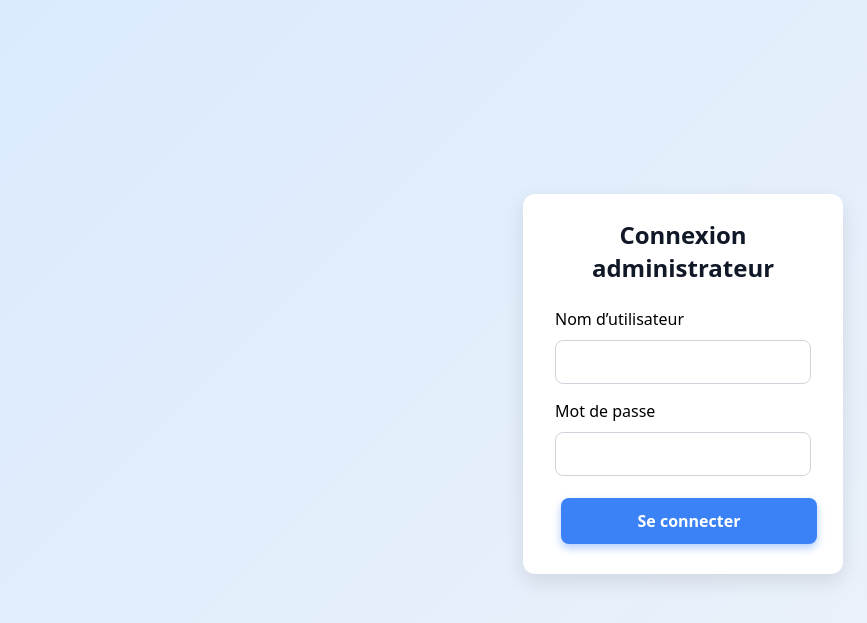
Test: login displays a safe API authentication error
In the field labelled "Nom d’utilisateur": (683, 362) x1=555 y1=340 x2=811 y2=384, type "test-admin"
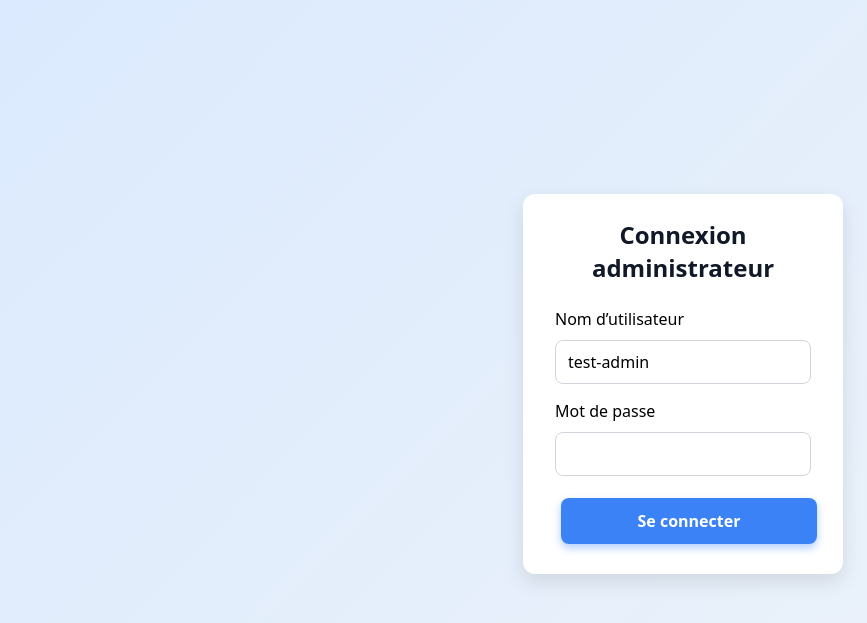
In the password field labelled "Mot de passe": (683, 454) x1=555 y1=432 x2=811 y2=476, type "wrong-password"
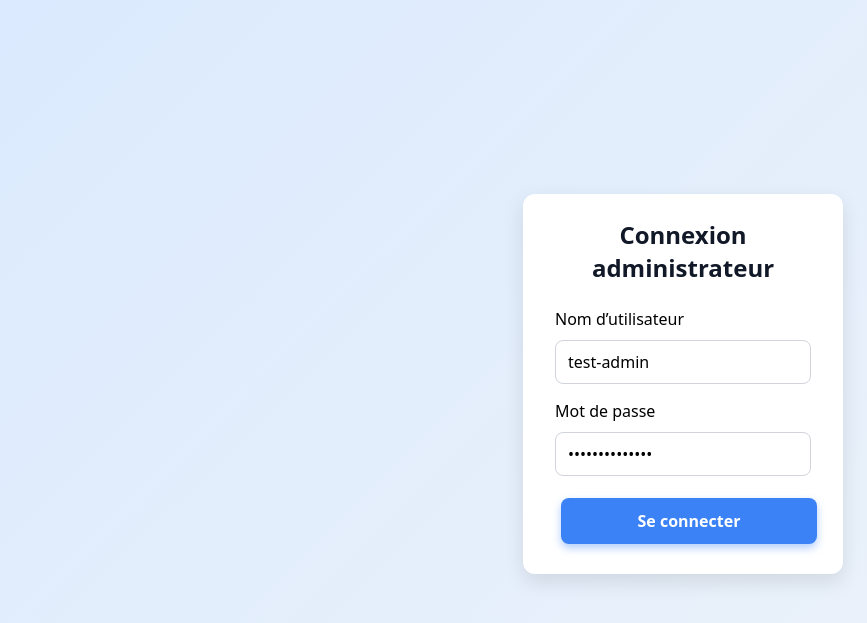
Click the button "Se connecter": (689, 521) x1=561 y1=498 x2=817 y2=544
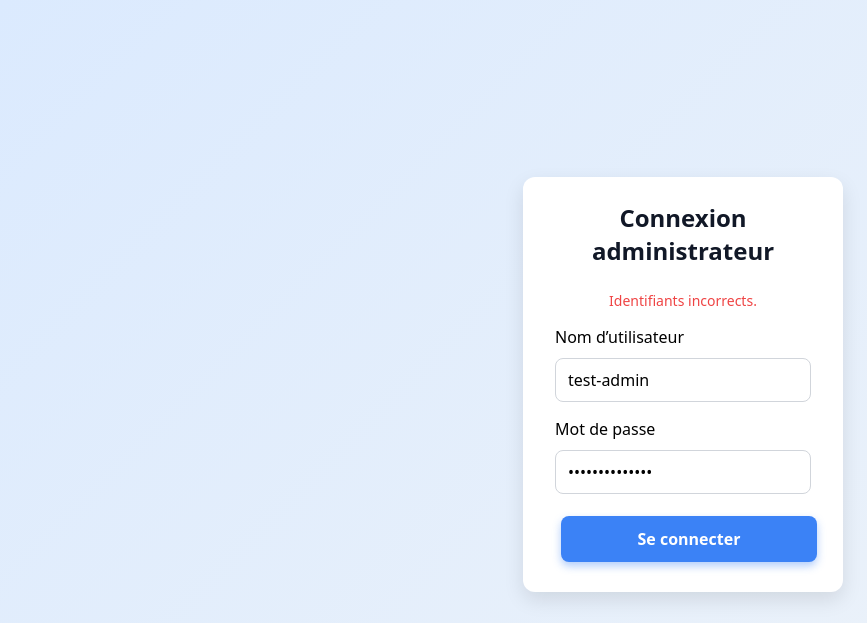
Expected: the message reads "Identifiants incorrects.", x1=609 y1=290 x2=757 y2=310
